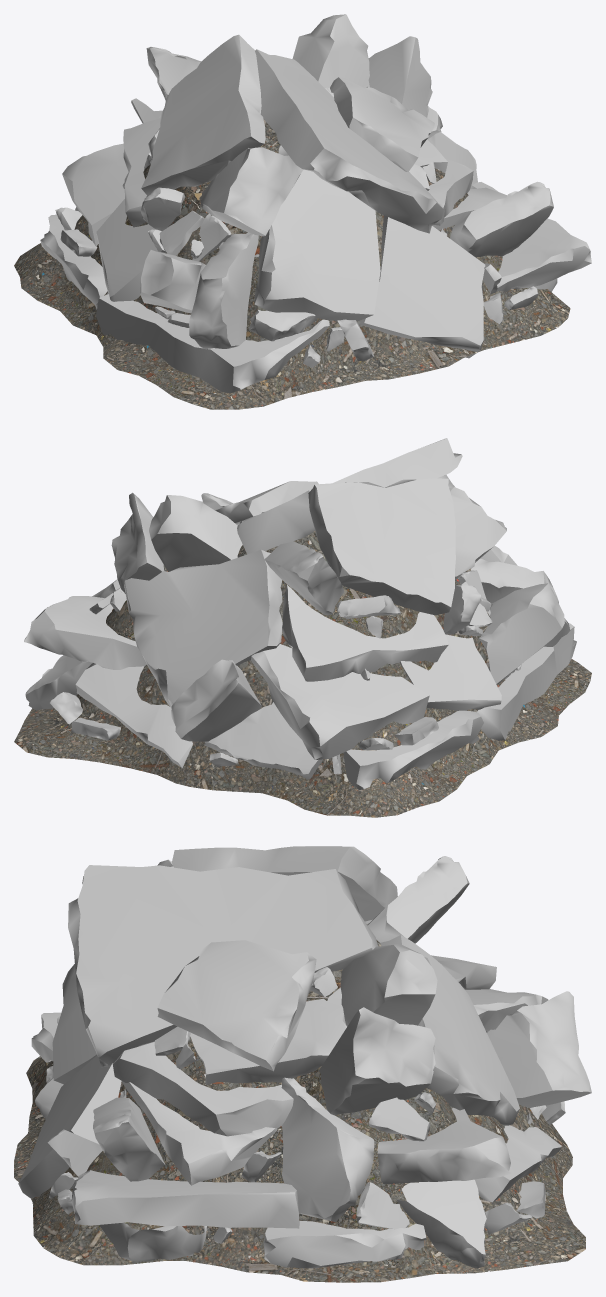
The model's file is SM_Ruins_B.fbx.
The picture shows the model from 3 angles, top to bottom: view 1: azimuth 30°, elevation 25°; view 2: azimuth 150°, elevation 25°; view 3: azimuth 270°, elevation 25°; orthographic projection. The views are drawn at different scales.
Visible parts, largest first — view 1: SM_Ruins_B; view 2: SM_Ruins_B; view 3: SM_Ruins_B.
Boxes of the visible parts, x1,y1,x2,y2 form: SM_Ruins_B: [14, 14, 591, 409]; SM_Ruins_B: [14, 438, 591, 817]; SM_Ruins_B: [14, 846, 591, 1282].
Bounding box in the file's own units: 847 × 484 × 824.
